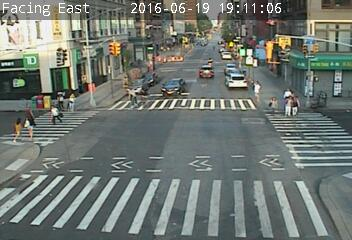neg: (303, 68, 317, 87), (115, 53, 127, 68), (243, 47, 254, 62), (145, 50, 155, 63)
pos: (19, 112, 41, 142), (121, 84, 142, 112), (5, 116, 25, 143), (44, 101, 63, 127), (63, 90, 81, 114), (279, 93, 297, 117), (246, 79, 264, 102), (265, 94, 281, 115), (289, 95, 304, 115), (54, 92, 67, 109), (283, 85, 293, 99)
